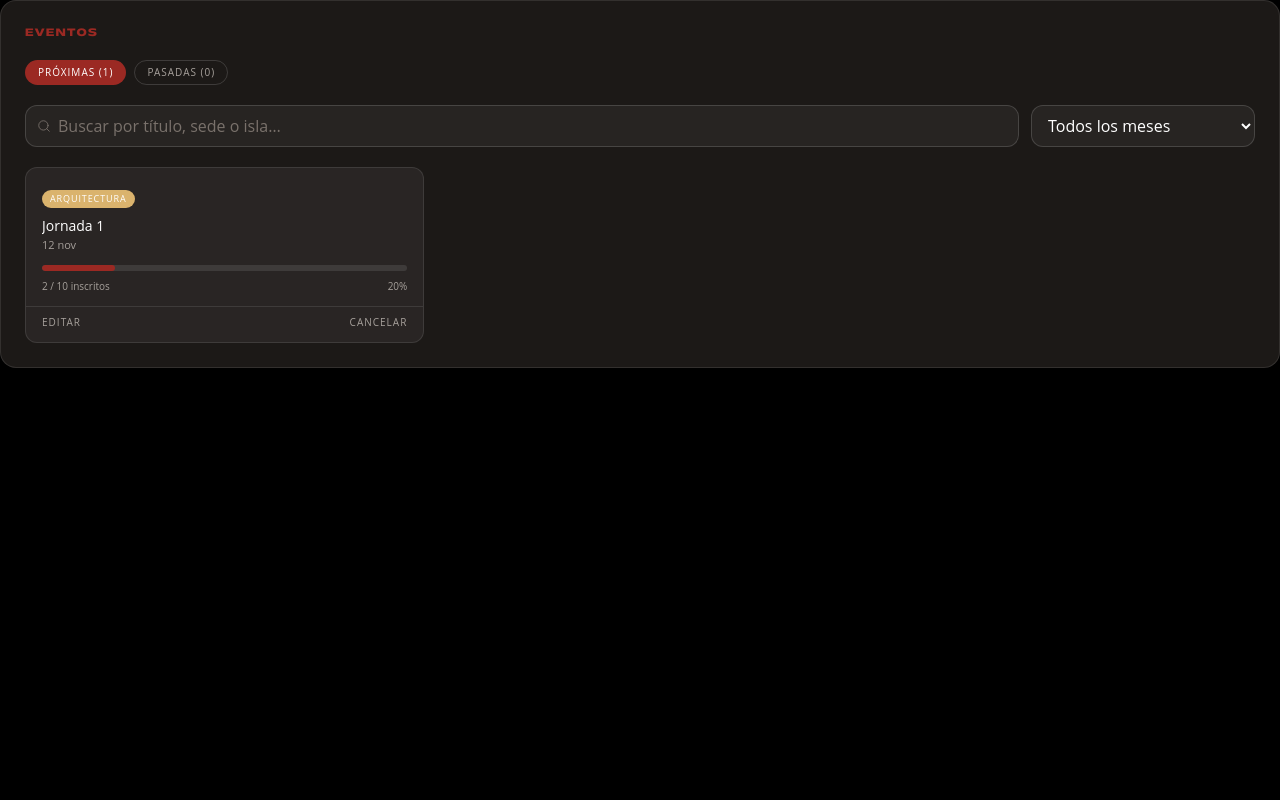
Test: ControlAsistentes — quitar a un inscrito › al abrir una jornada, el panel de eventos queda arriba plegado y se puede volver a desplegar
The image size is (1280, 800).
Click the text "Jornada 1" at (73, 225), box left=42, top=216, right=104, bottom=234
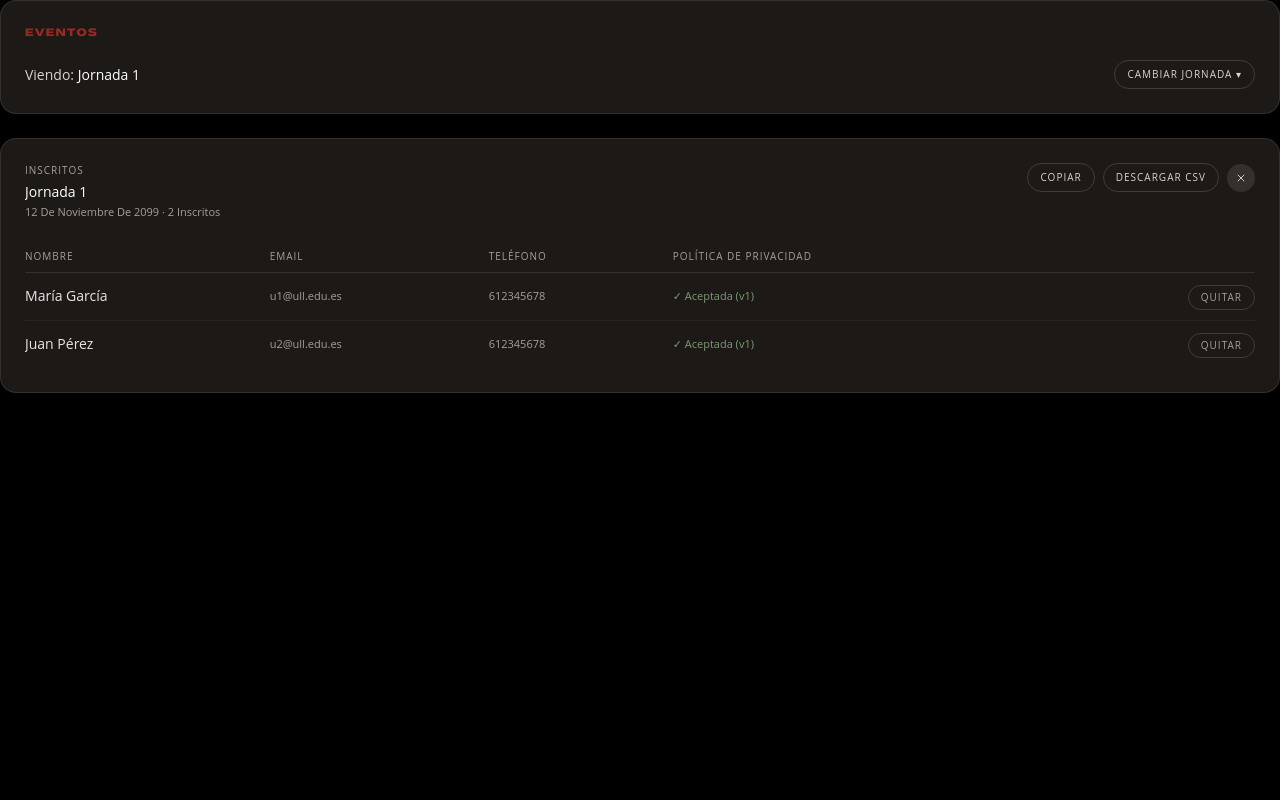
Now the button "Próximas" is gone
Now the text "Viendo: Jornada 1" is shown, box left=25, top=64, right=140, bottom=84
Click the button "Cambiar jornada ▾" at (1185, 74), box left=1114, top=60, right=1255, bottom=89
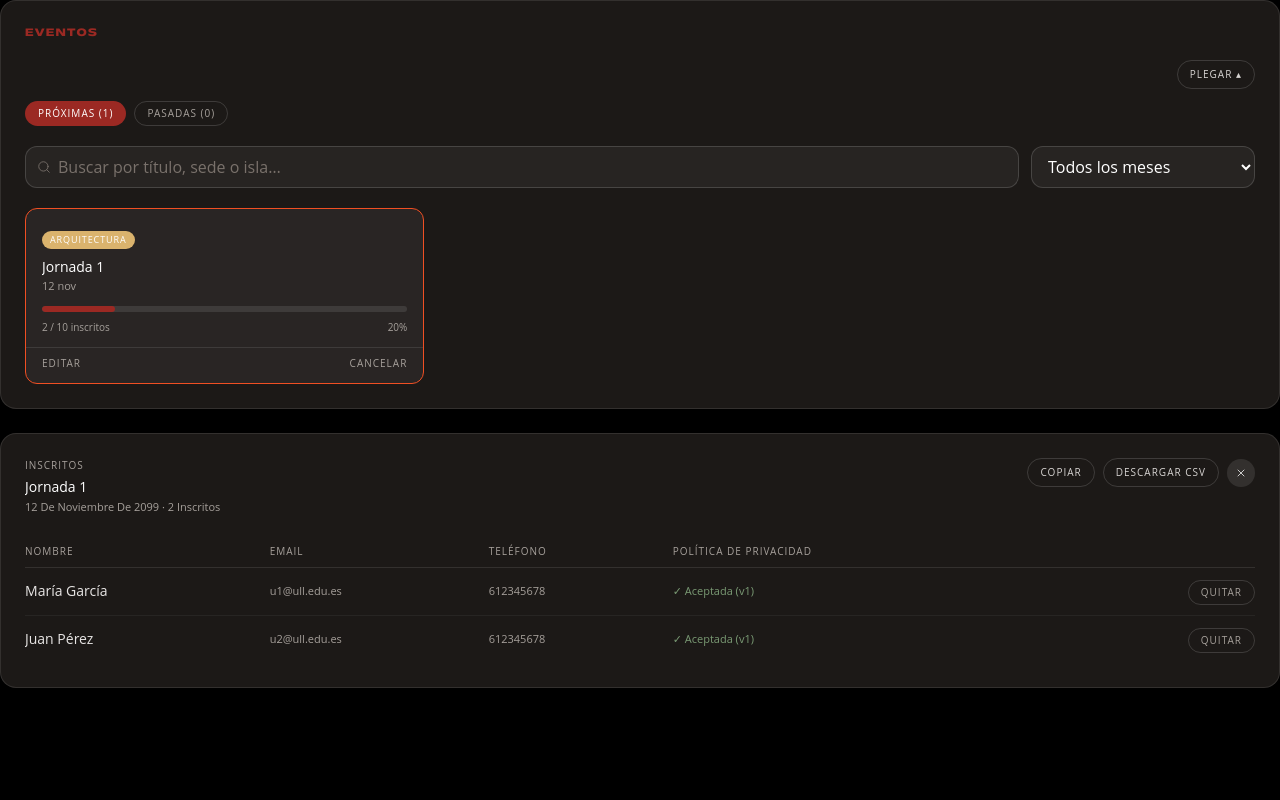
Now the button "Próximas (1)" is shown, box left=25, top=101, right=126, bottom=126
Click the button "Plegar ▴" at (1216, 74), box left=1177, top=60, right=1255, bottom=89
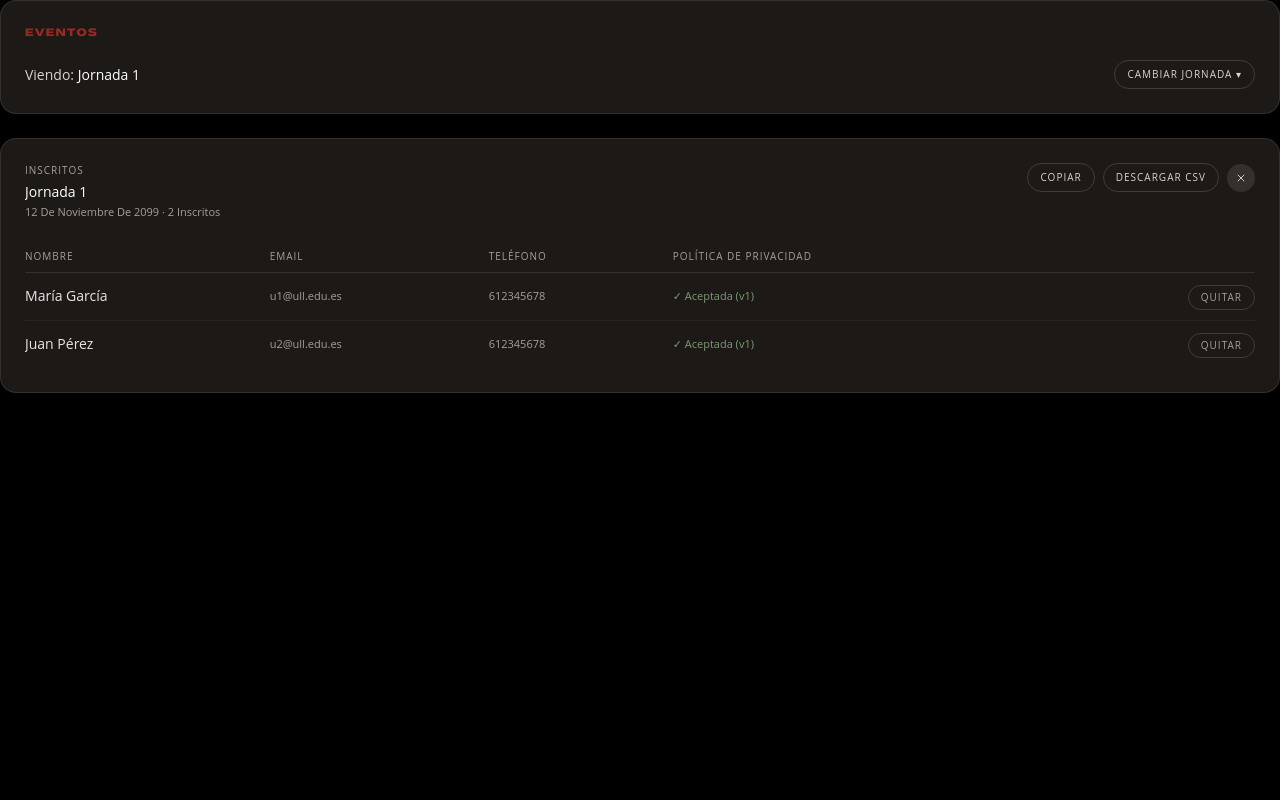
Now the button "Próximas" is gone
